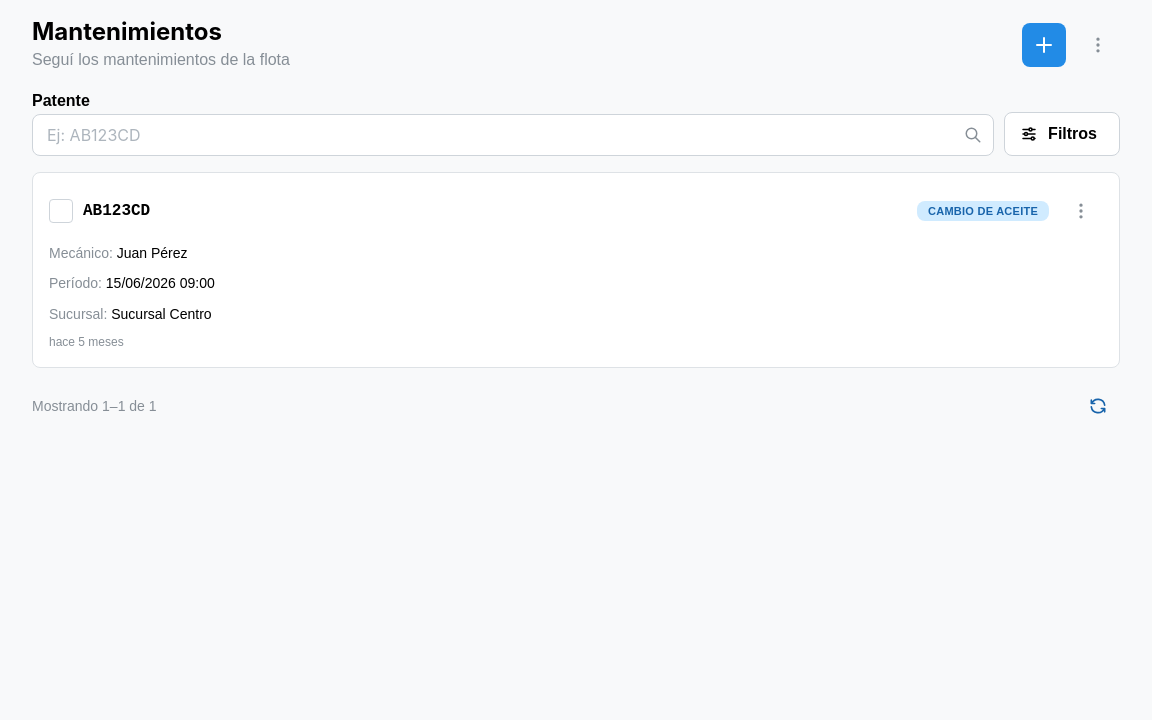
Test: ListaMantenimientos en mobile › usa el botón Filtros para los filtros secundarios
Expected: the element with test id "list-card" is shown, x1=32 y1=172 x2=1120 y2=368
Click the button "Filtros": coordinates (1062, 134) x1=1004 y1=112 x2=1120 y2=156
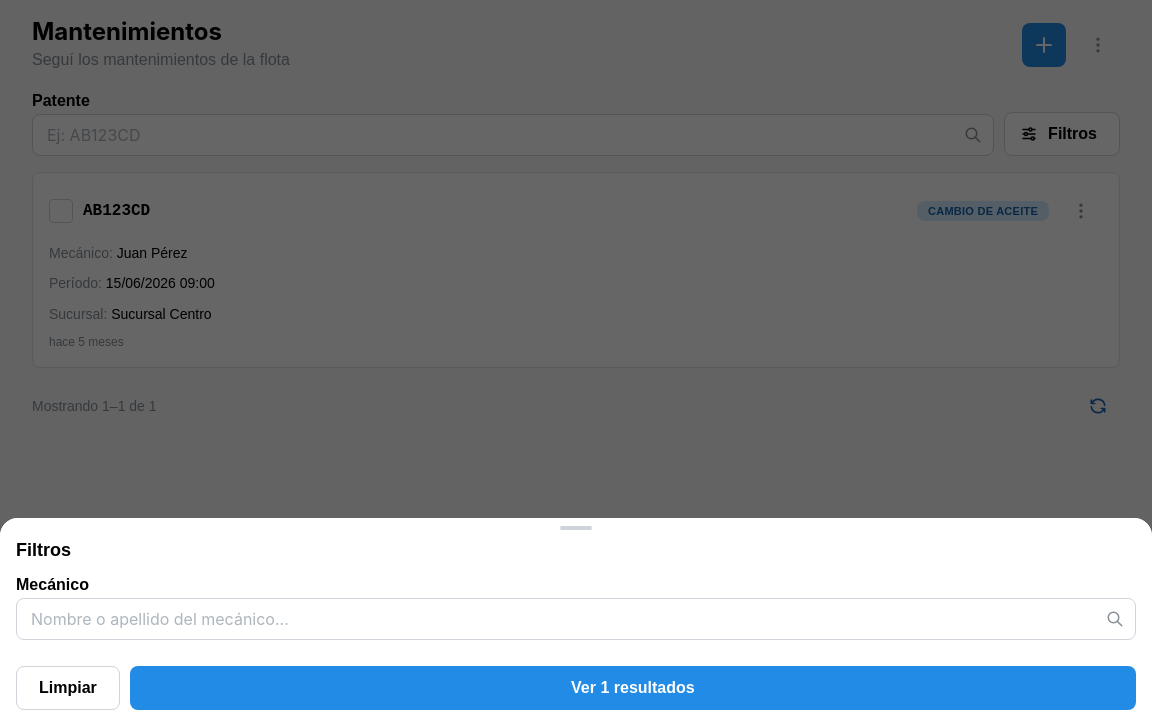
Result: the field labelled "Mecánico" is shown at x1=16 y1=598 x2=1136 y2=640
